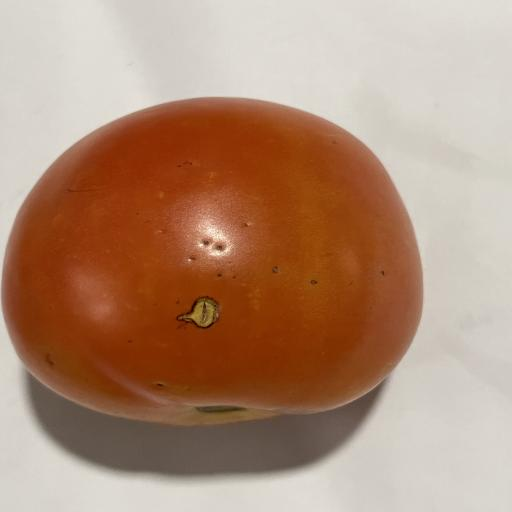unripe: (2, 98, 422, 425)
